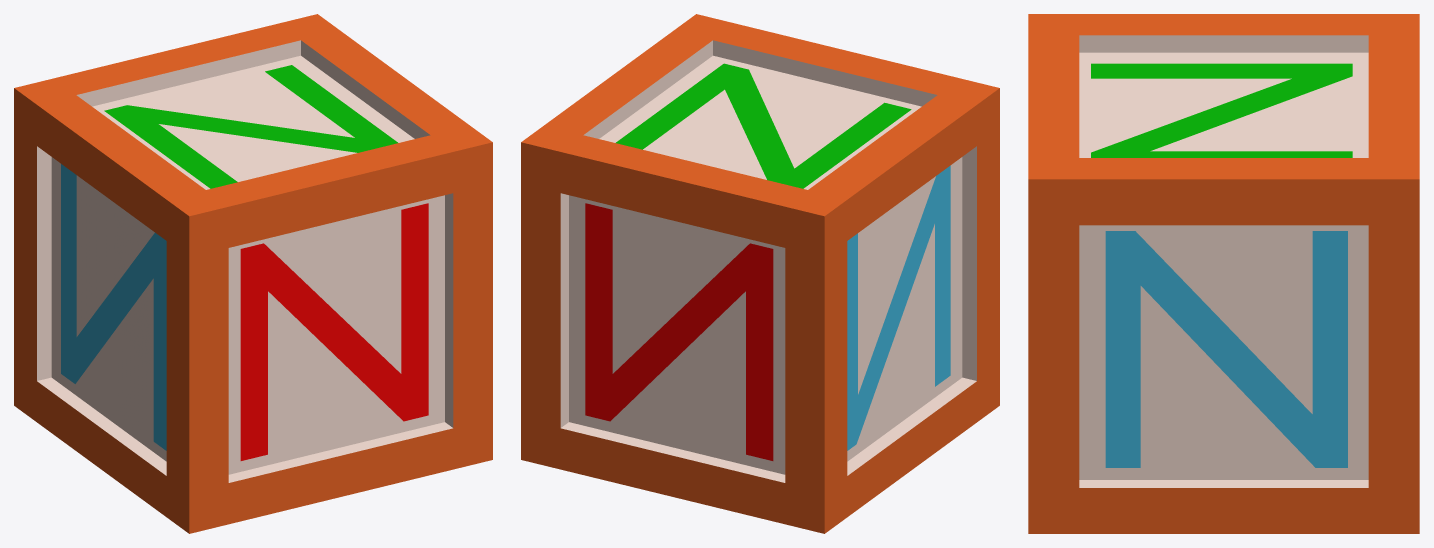
The model's file is Prop_KidsCube_N.fbx.
3 views of the same model, side by side, from view 1: azimuth 30°, elevation 25°; view 2: azimuth 150°, elevation 25°; view 3: azimuth 270°, elevation 25° (orthographic). The views are drawn at different scales.
Parts seen in each view (by area): view 1: Prop_KidsCube_N; view 2: Prop_KidsCube_N; view 3: Prop_KidsCube_N.
Part boxes in pixels (x1,y1,x2,y2): Prop_KidsCube_N: [14, 14, 492, 533]; Prop_KidsCube_N: [521, 14, 999, 533]; Prop_KidsCube_N: [1028, 14, 1419, 533].
Size of the model in its own units: 20.93 by 20.93 by 20.93.
